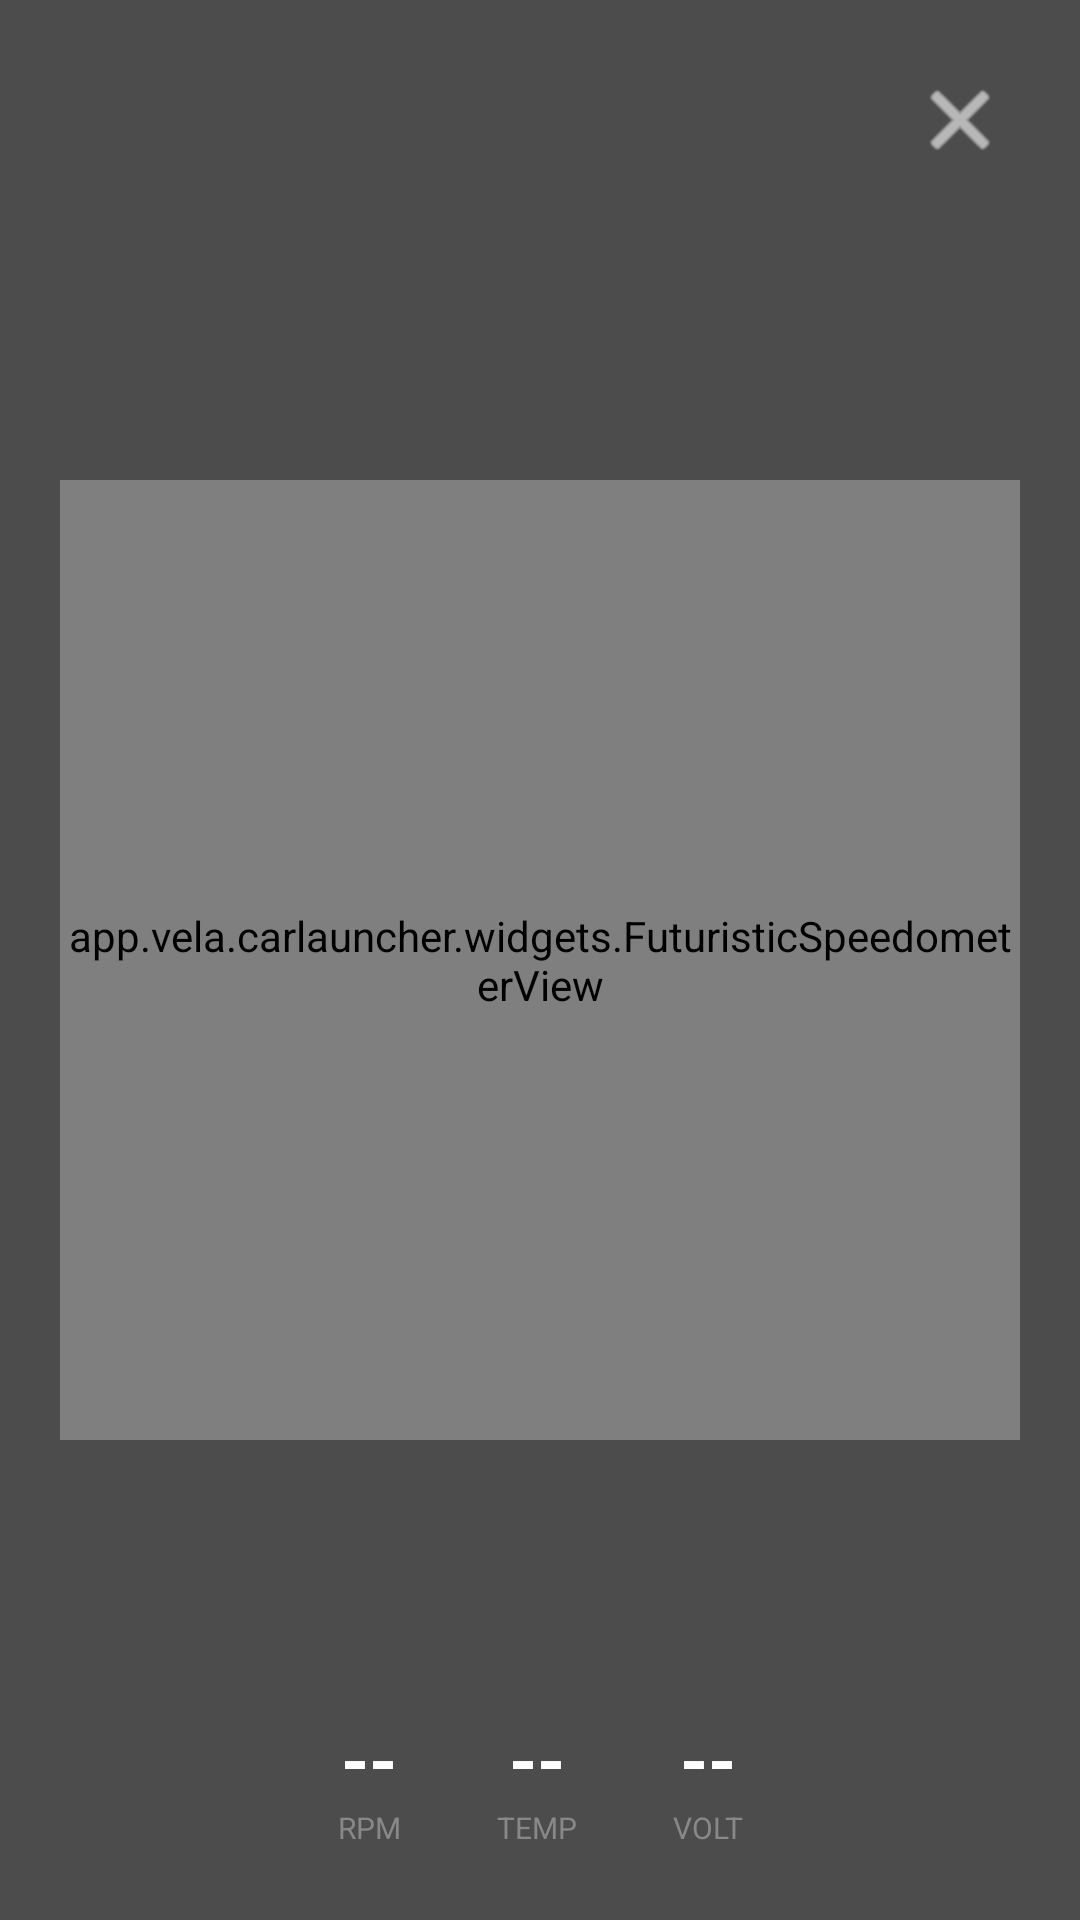

Where icons sit on this 1080 × 1920 app screen, as {"x1": x1, "y1": y1, "x2": x2, "y2": y2}:
close clear cancel: {"x1": 930, "y1": 90, "x2": 990, "y2": 150}
